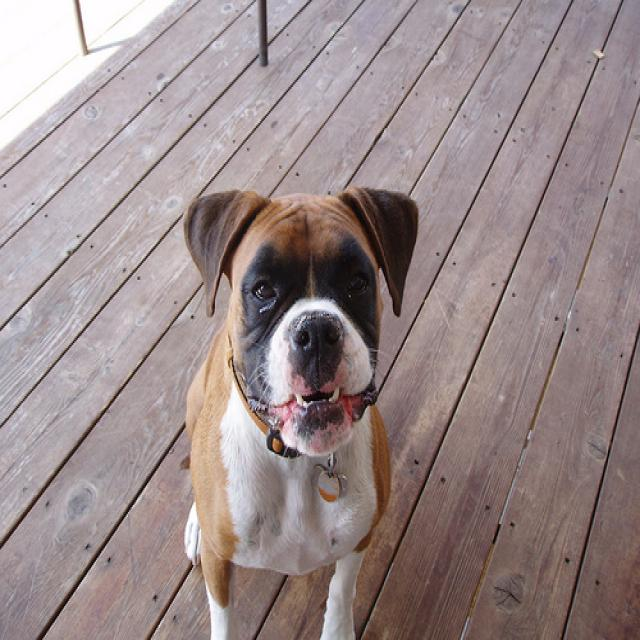dog-boxer: (178, 181, 424, 637)
